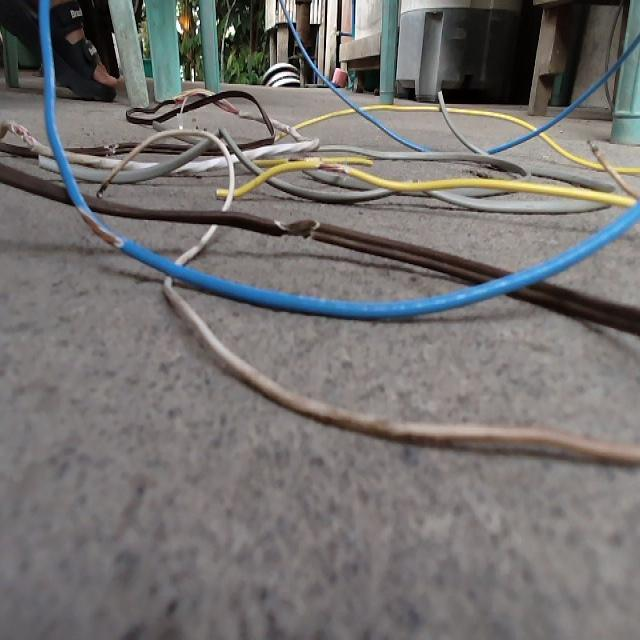-: (78, 208, 125, 249), (273, 218, 319, 238), (9, 120, 36, 149), (317, 159, 346, 173)
